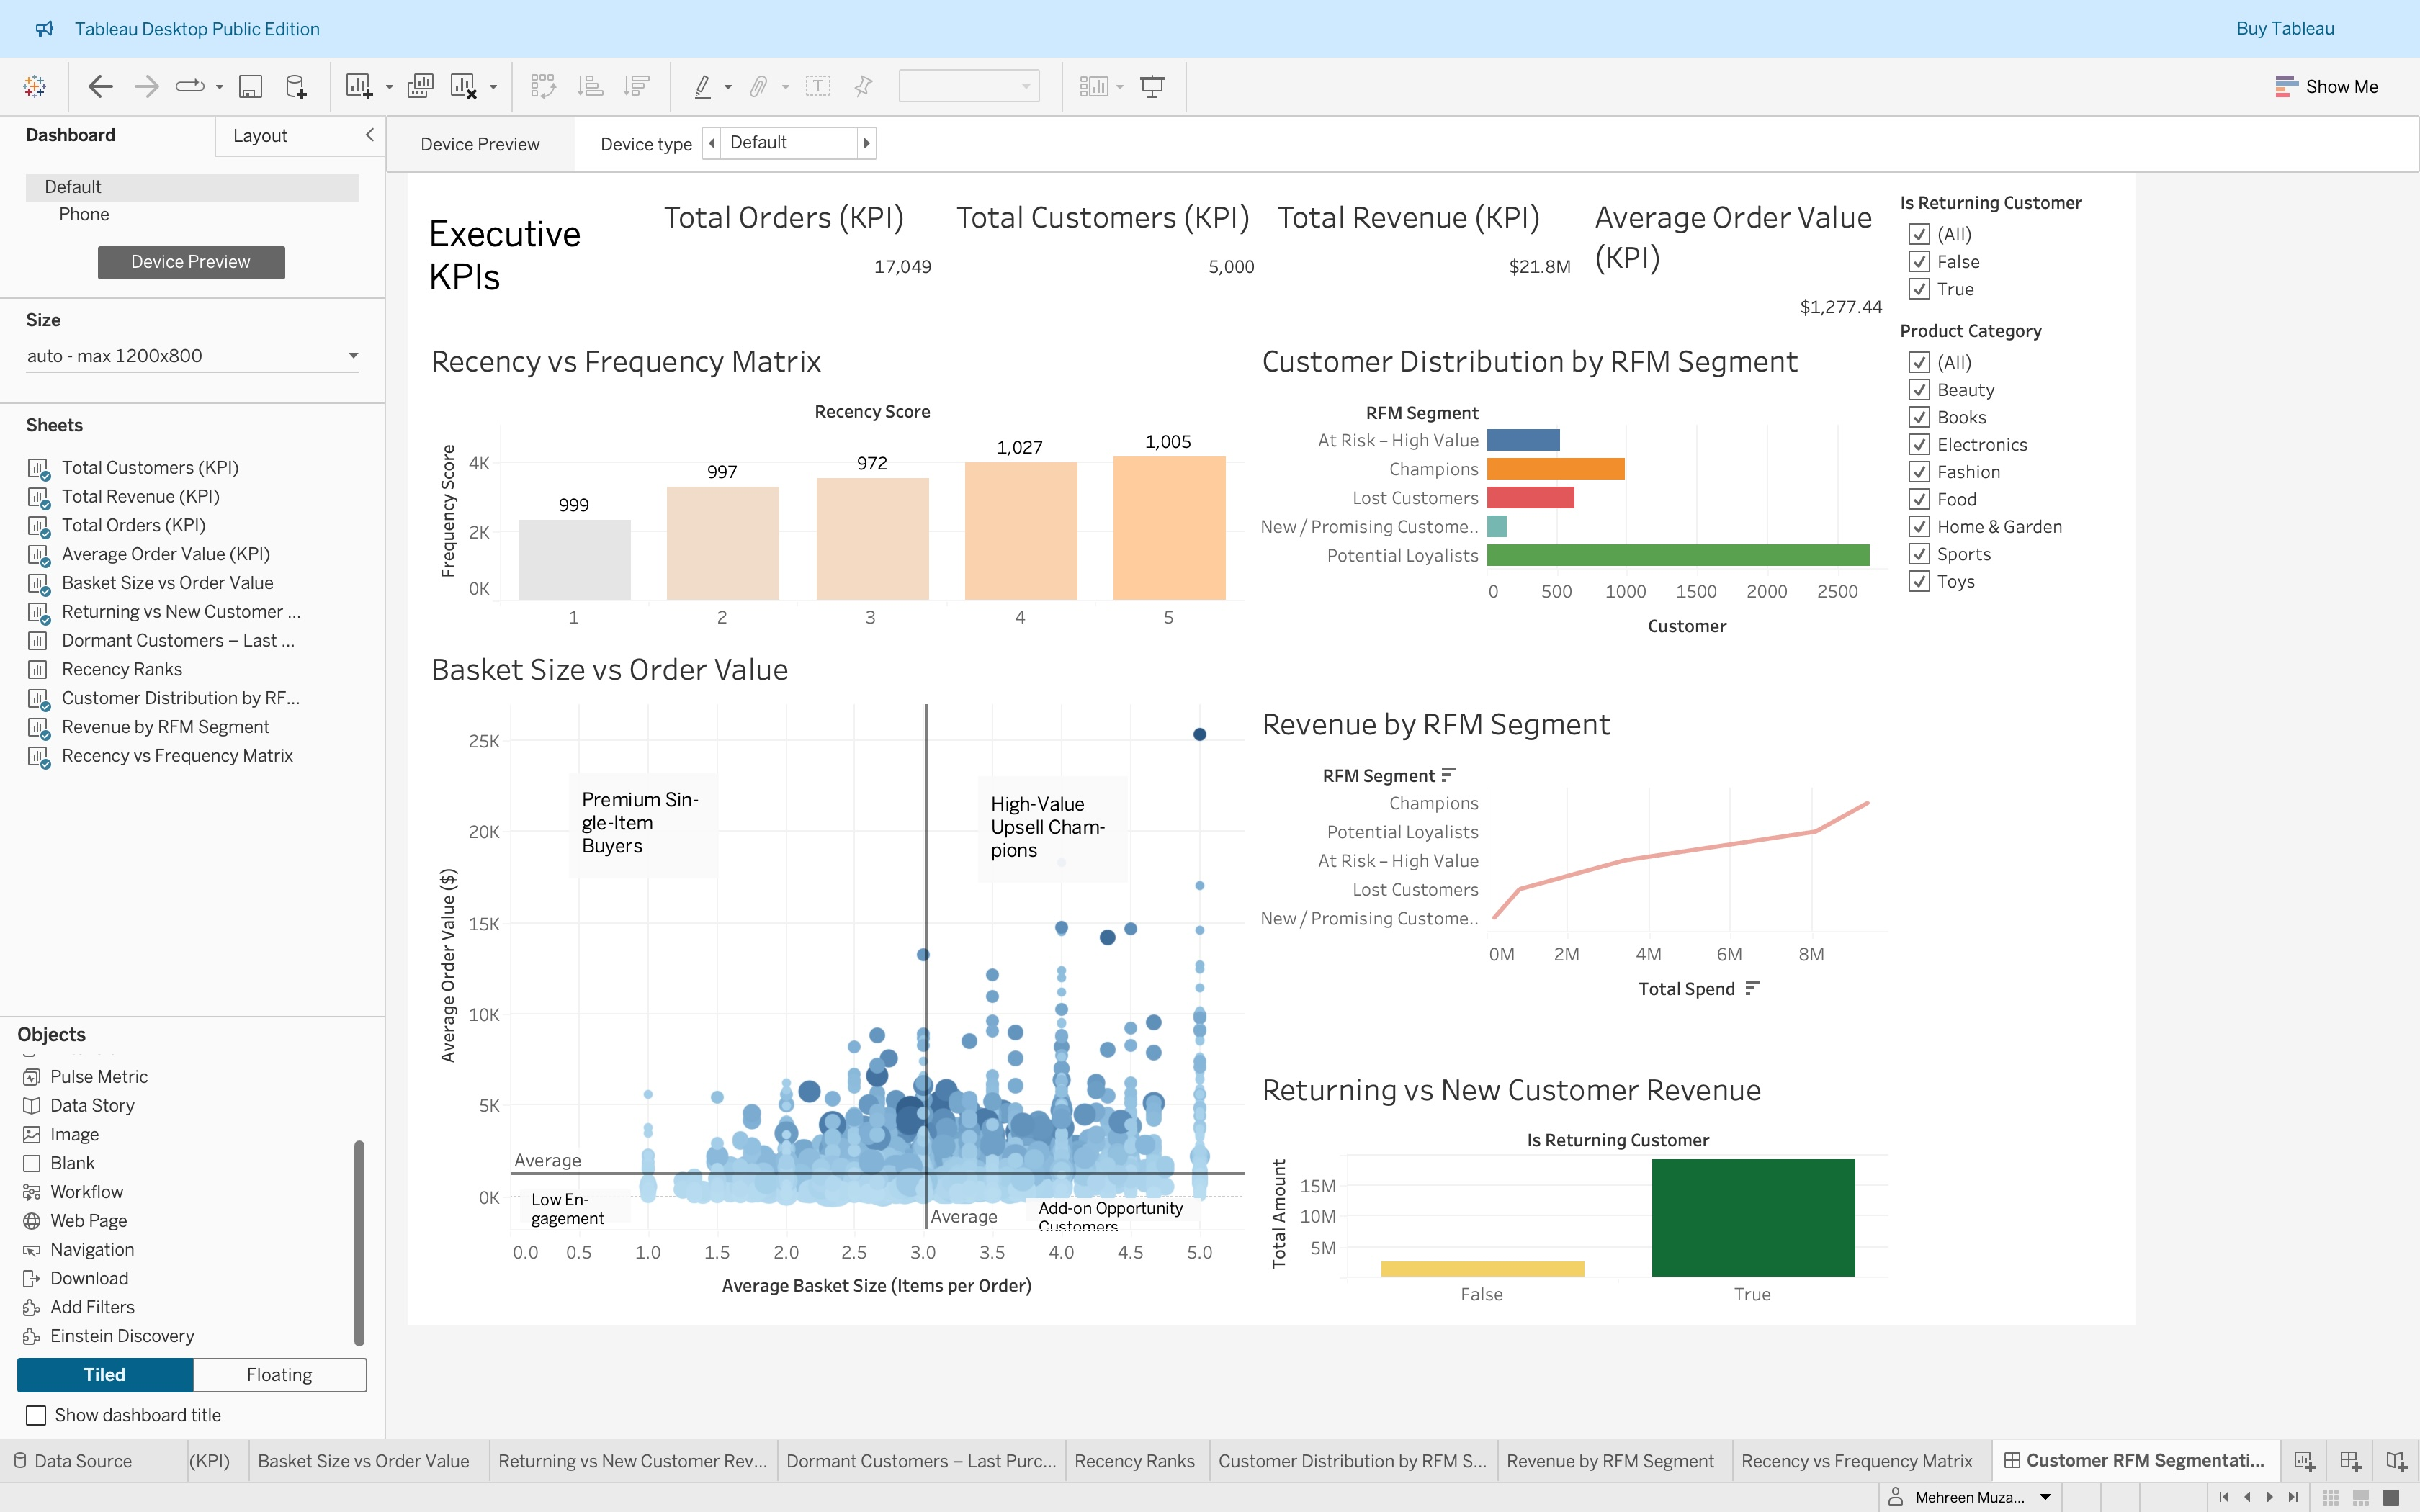

The page's visual inventory and layout, read from the dashboard file:
{"tool":"tableau","page":{"name":"Customer RFM Segmentation & Revenue Insights (Retail Analytics)","canvas":[1000,1000],"units":"permille","ordinal":0},"visuals":[{"type":"text","box":[9.8,11.2,124.4,124.5]},{"type":"worksheet","title":"Total Orders (KPI)","mark":"Automatic","box":[134.2,11.2,155,124.5]},{"type":"worksheet","title":"Total Customers (KPI)","mark":"Automatic","box":[289.2,11.2,170.7,124.5]},{"type":"worksheet","title":"Total Revenue (KPI)","mark":"Text","box":[459.9,11.2,168.4,124.5]},{"type":"worksheet","title":"Average Order Value (KPI)","mark":"Automatic","box":[628.2,11.2,165.4,124.5]},{"type":"filter","title":"Returning vs New Customer Revenue","param":"[federated.1lfs3r41pqgmu012753eo1esbdjw].[none:is_returning_customer:nk]","box":[793.6,11.2,196.6,124.8]},{"type":"worksheet","title":"Recency vs Frequency Matrix","mark":"Automatic","rows":["Calculation_1756614990065725445"],"cols":["Calculation_1756614989522669571"],"box":[9.8,135.8,441.4,266.5]},{"type":"worksheet","title":"Customer Distribution by RFM Segment","mark":"Bar","rows":["Calculation_1756614990076665867"],"cols":["customer_id"],"box":[451.2,135.8,342.4,314.3]},{"type":"filter","title":"Customer Distribution by RFM Segment","param":"[federated.1lfs3r41pqgmu012753eo1esbdjw].[none:city:nk]","box":[793.6,136,196.6,338]},{"type":"worksheet","title":"Basket Size vs Order Value","mark":"Circle","rows":["order_value"],"cols":["basket_size"],"box":[9.8,402.2,441.4,586.5]},{"type":"worksheet","title":"Revenue by RFM Segment","mark":"Line","rows":["Calculation_1756614990076665867"],"cols":["total_spend"],"box":[451.2,450,342.4,316.7]},{"type":"filter","title":"Returning vs New Customer Revenue","param":"[federated.1lfs3r41pqgmu012753eo1esbdjw].[none:product_category:nk]","box":[793.6,474.1,196.6,284.7]},{"type":"worksheet","title":"Returning vs New Customer Revenue","mark":"Automatic","rows":["total_amount"],"cols":["is_returning_customer"],"box":[451.2,766.7,342.4,222.1]}]}

Visuals, with their boxes on the dashboard's canvas, which has no fixed pixel size, in thousandths of its width and height (x1, y1, x2, y2). These are canvas units, not pixel positions in the 2420x1512 screenshot, which may show the page scaled, cropped or inside an application window:
text: (x1=10, y1=11, x2=134, y2=136)
"Total Orders (KPI)" worksheet: (x1=134, y1=11, x2=289, y2=136)
"Total Customers (KPI)" worksheet: (x1=289, y1=11, x2=460, y2=136)
"Total Revenue (KPI)" worksheet (Text marks): (x1=460, y1=11, x2=628, y2=136)
"Average Order Value (KPI)" worksheet: (x1=628, y1=11, x2=794, y2=136)
"Returning vs New Customer Revenue" filter: (x1=794, y1=11, x2=990, y2=136)
"Recency vs Frequency Matrix" worksheet: (x1=10, y1=136, x2=451, y2=402)
"Customer Distribution by RFM Segment" worksheet (Bar marks): (x1=451, y1=136, x2=794, y2=450)
"Customer Distribution by RFM Segment" filter: (x1=794, y1=136, x2=990, y2=474)
"Basket Size vs Order Value" worksheet (Circle marks): (x1=10, y1=402, x2=451, y2=989)
"Revenue by RFM Segment" worksheet (Line marks): (x1=451, y1=450, x2=794, y2=767)
"Returning vs New Customer Revenue" filter: (x1=794, y1=474, x2=990, y2=759)
"Returning vs New Customer Revenue" worksheet: (x1=451, y1=767, x2=794, y2=989)
